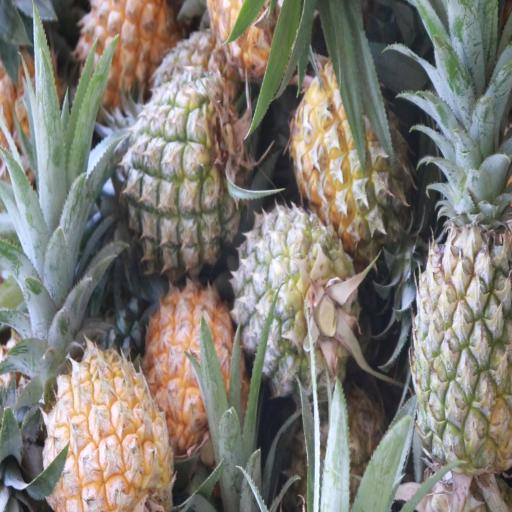------------------------------: (287, 61, 409, 249), (121, 86, 247, 262), (230, 210, 351, 389)
Pineapple - v8 v1: (45, 344, 172, 511), (145, 288, 242, 450), (78, 0, 173, 101)
